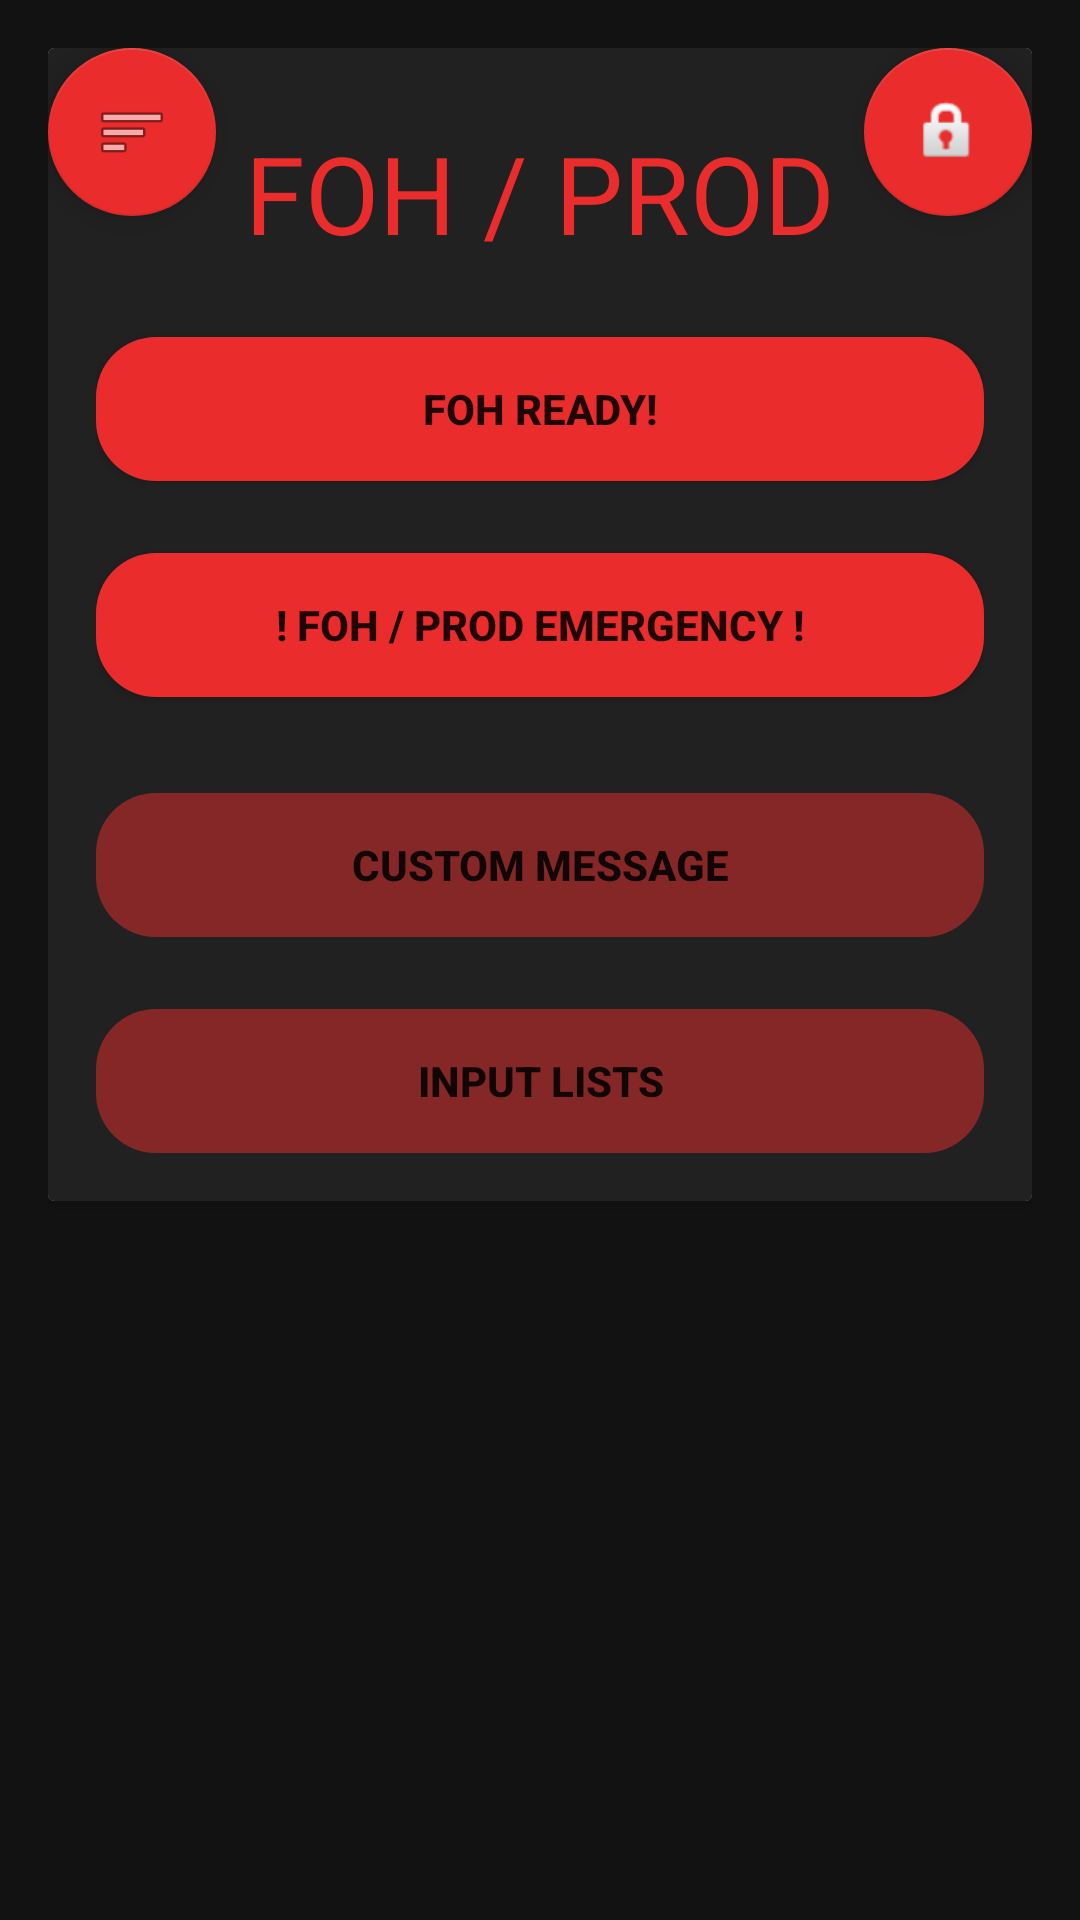

Named icons in this screenshot (1080*1920) and their centers, [x,y]:
lock idle: [948,132]
sort by size: [132,132]
